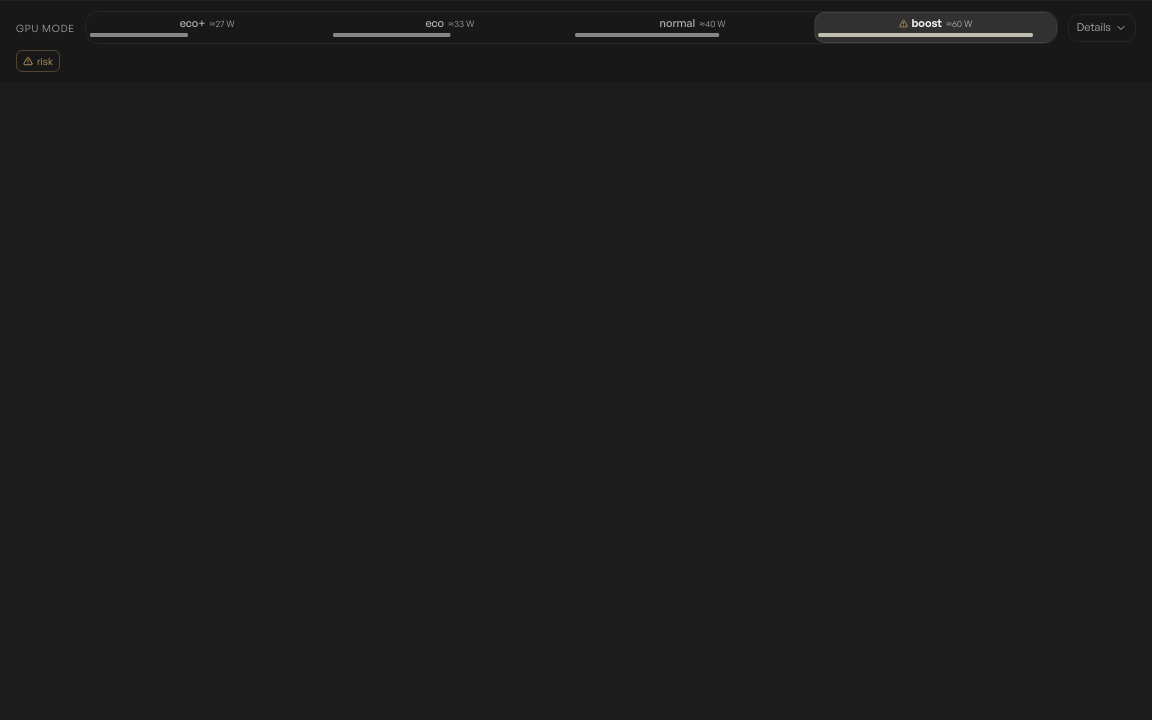
DeviceModeStrip › warns about the risk once boost is the chosen step
What coordinates should you click on to do the following:
click the button with test id "device-toggle-detail"
I would click on:
 (1102, 28)
Its box is x1=1068 y1=14 x2=1136 y2=42.
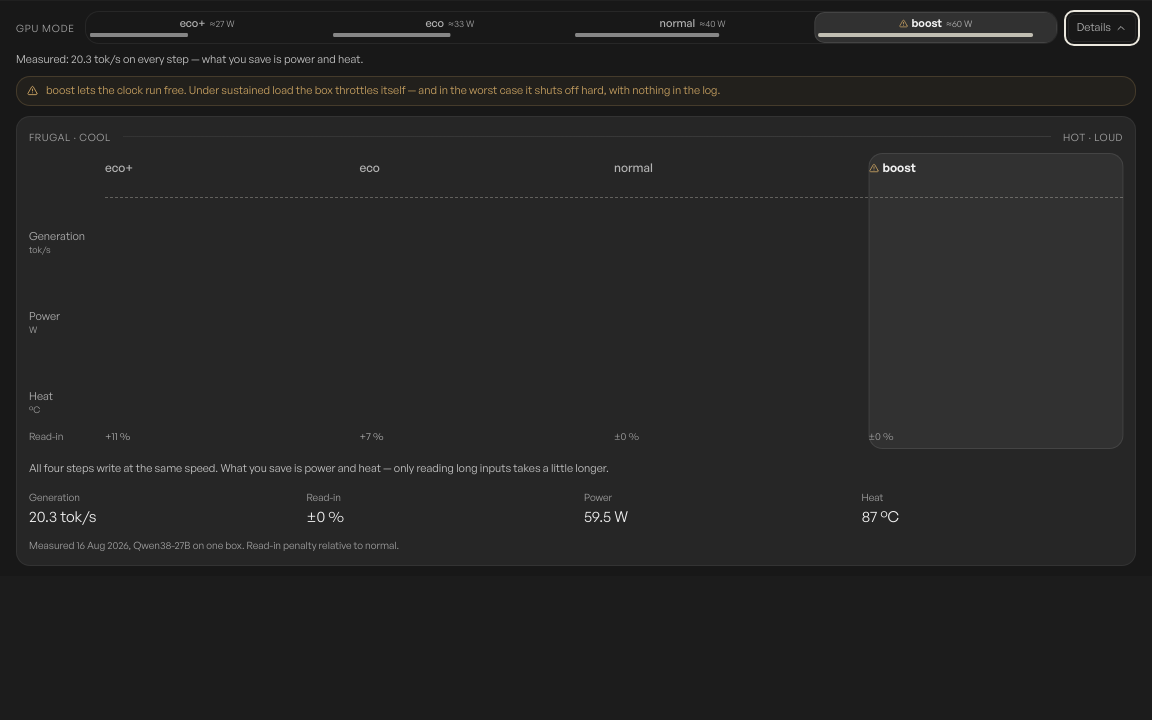
Now the element with test id "device-detail" is shown
Now the element with test id "device-boost-warning" is shown, box x1=16 y1=76 x2=1136 y2=106
